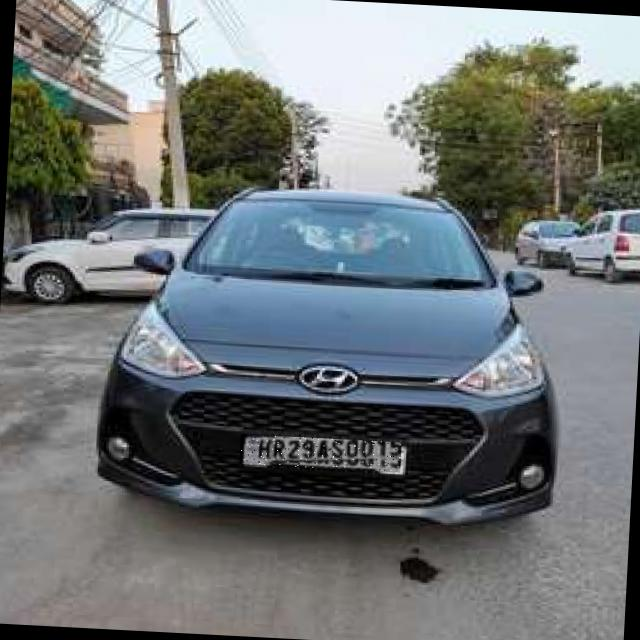Plate: (241, 435, 403, 473)
